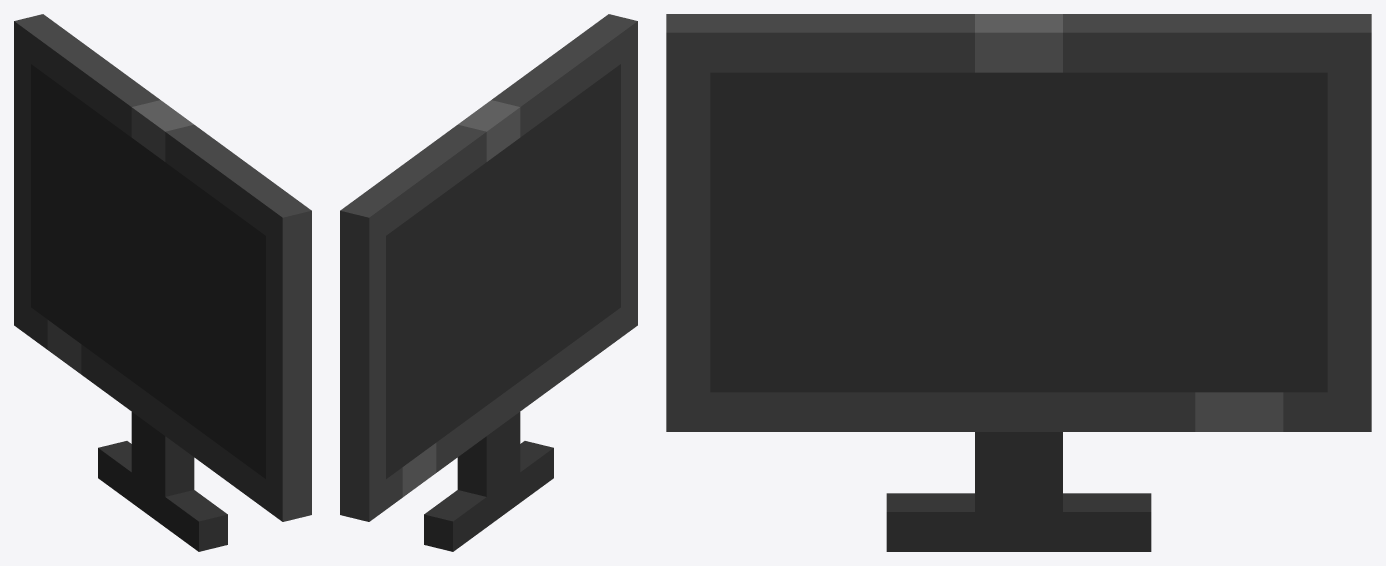
Rendered from Computer.obj.
The picture shows the model from 3 angles, left to right: view 1: azimuth 30°, elevation 25°; view 2: azimuth 150°, elevation 25°; view 3: azimuth 270°, elevation 25°; orthographic projection. The views are drawn at different scales.
Parts seen in each view (by area): view 1: Computer; view 2: Computer; view 3: Computer.
Part boxes in pixels (x1,y1,x2,y2): Computer: [14, 14, 311, 551]; Computer: [340, 14, 637, 551]; Computer: [666, 14, 1371, 551].
Size of the model in its own units: 1 by 13 by 16.
1 material, 1 textured.
